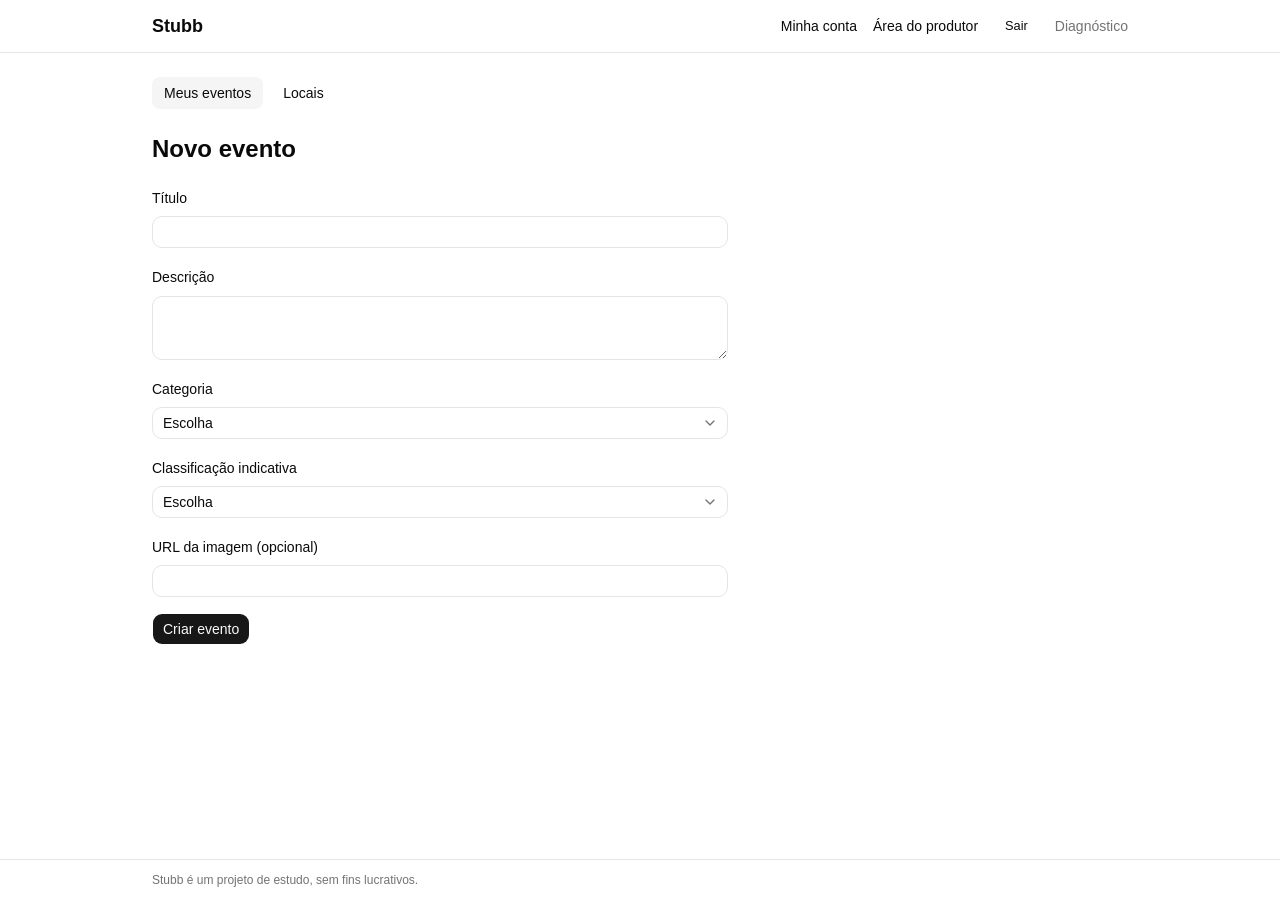
Test: novo evento › 400 do servidor com issues cai nos campos e o alerta do topo pede para conferir
Type "X" into the field labelled "Título".
click(440, 232); type("X")  # box [152,216,728,248]
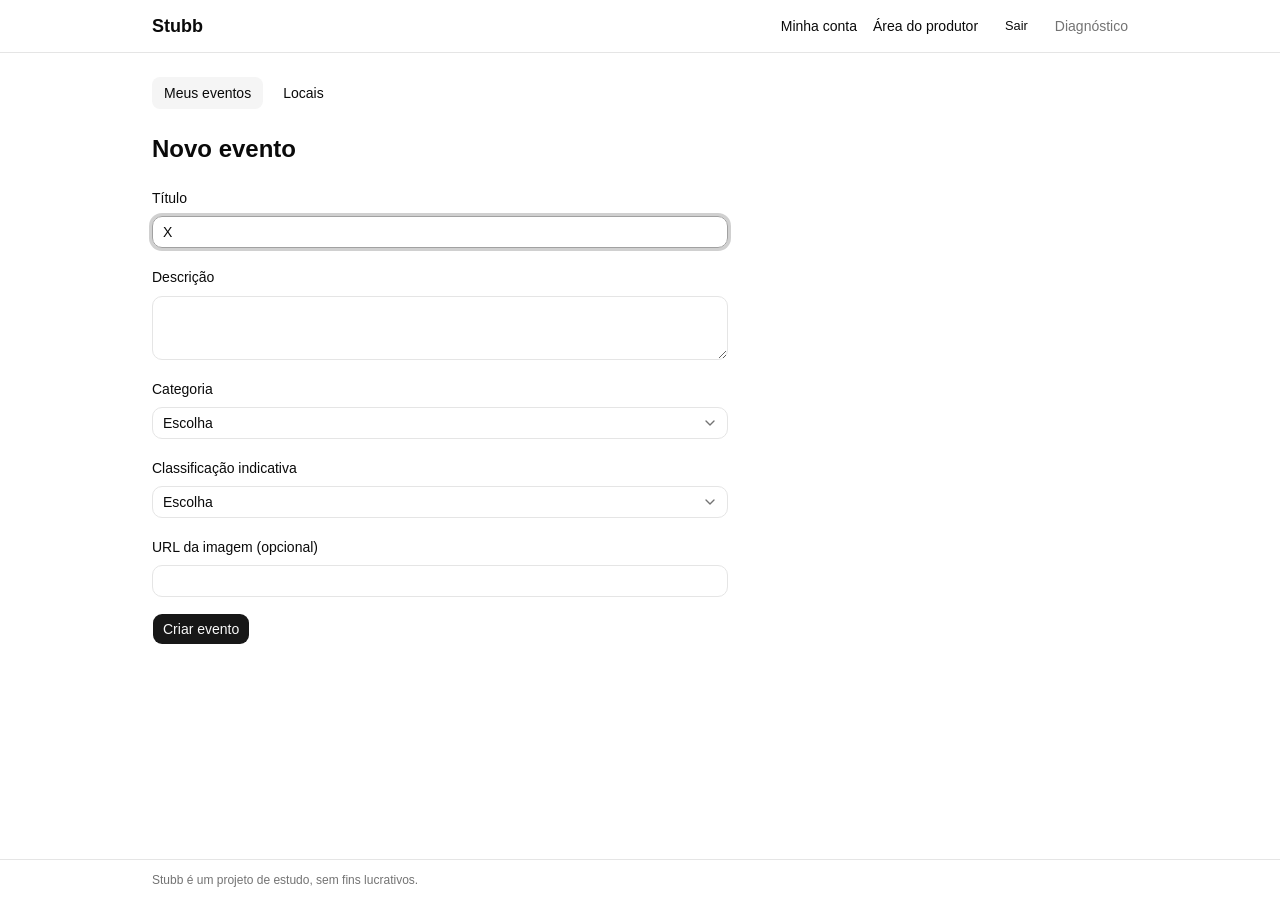
Type "Y" into the text box labelled "Descrição".
click(440, 328); type("Y")  # box [152,296,728,360]
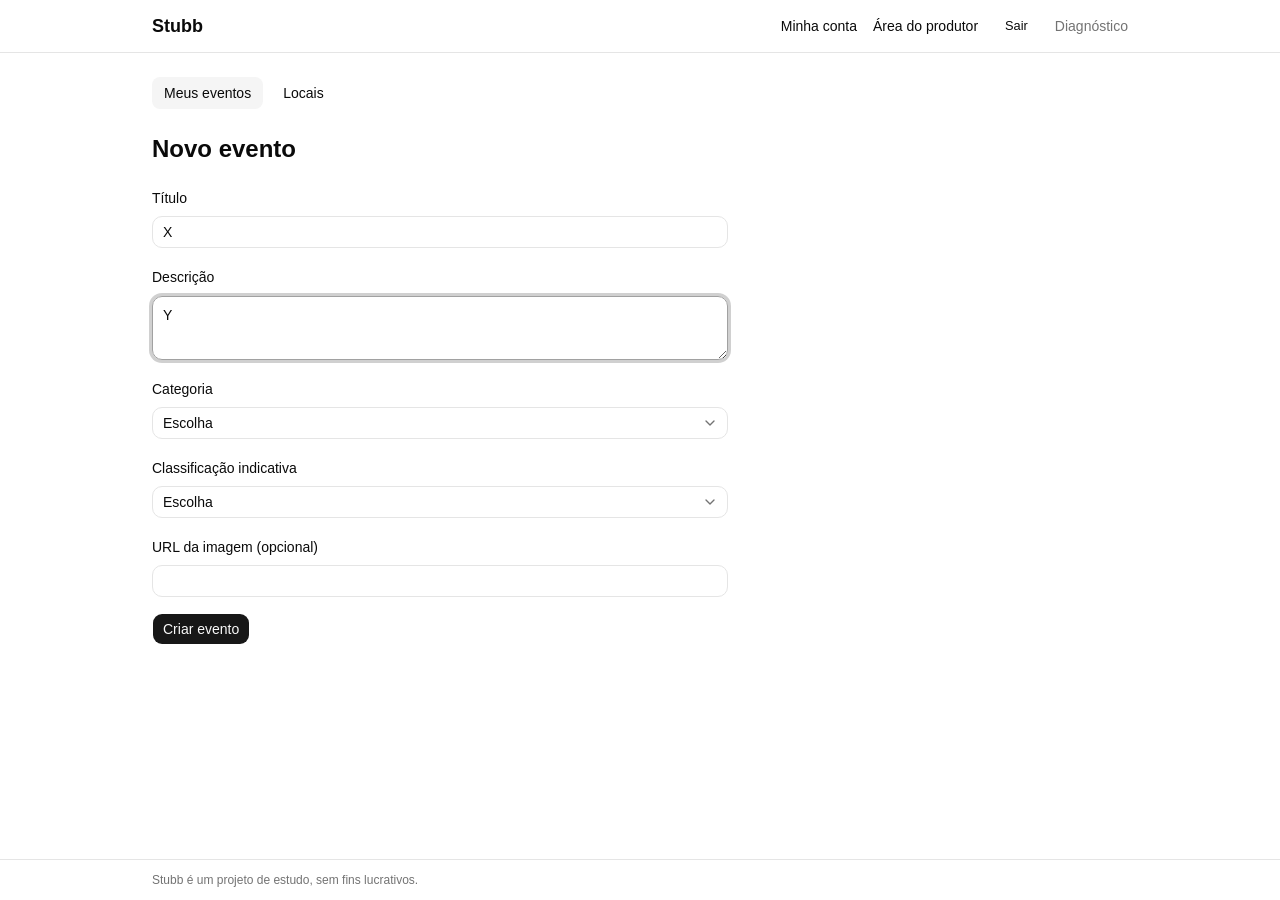
Select "Shows" in the dropdown labelled "Categoria" at (440, 423), box [152,407,728,439]
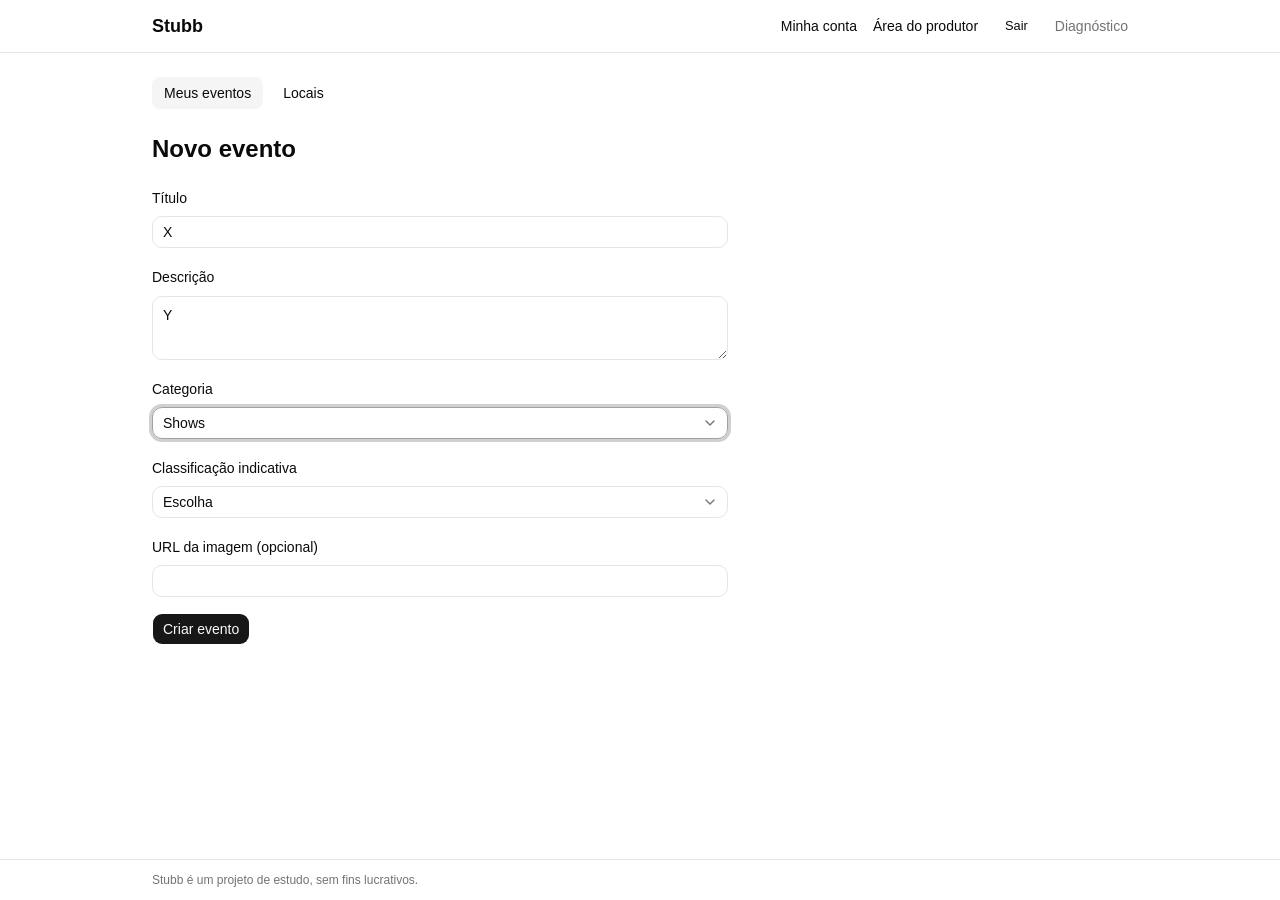
Select "Livre" in the dropdown labelled "Classificação indicativa" at (440, 502), box [152,486,728,518]
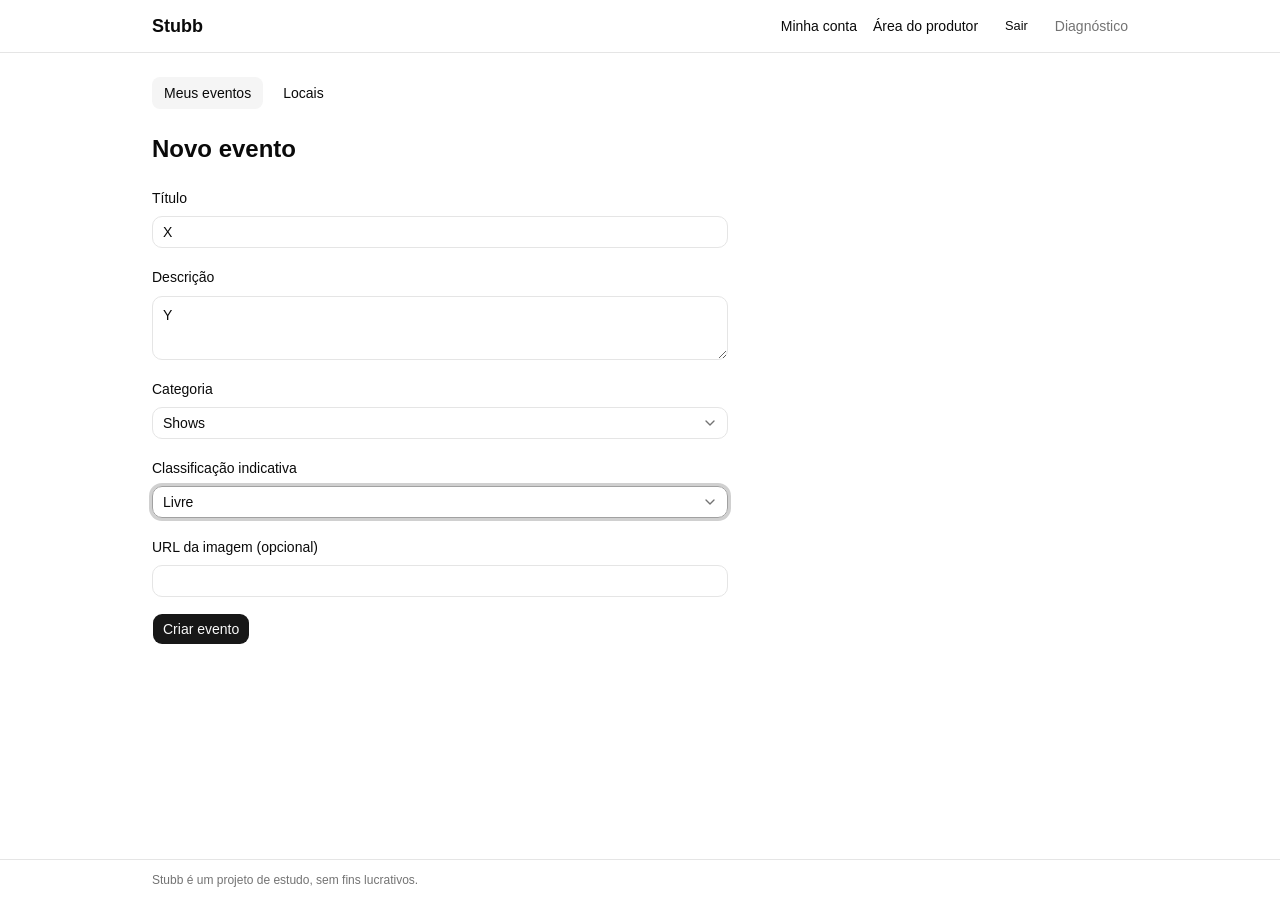
Click the button "Criar evento".
click(201, 629)  # box [152,613,250,645]
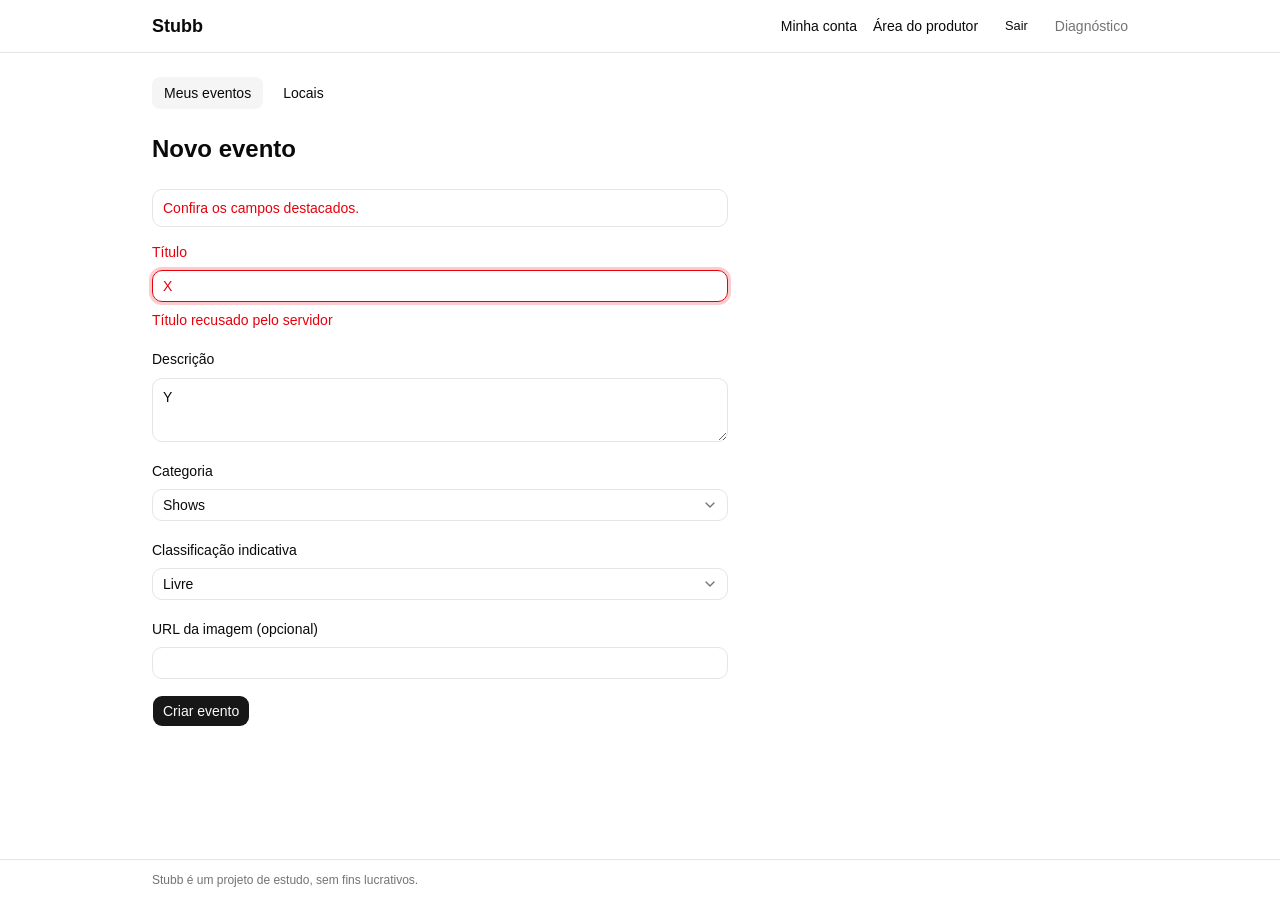
Result: the text "Confira os campos destacados." is shown at [152,189,728,227]
